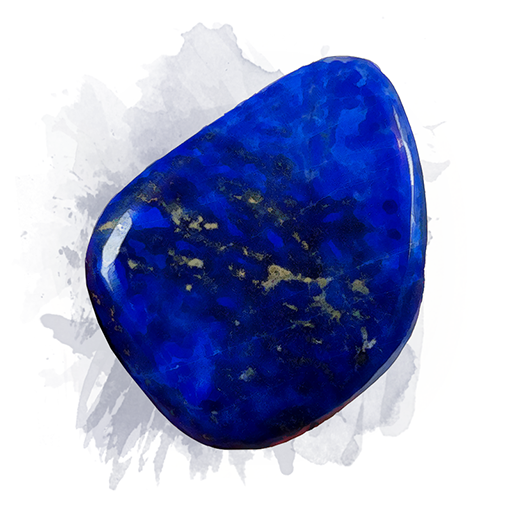Lapis_Lazuli: (80, 53, 430, 455)
